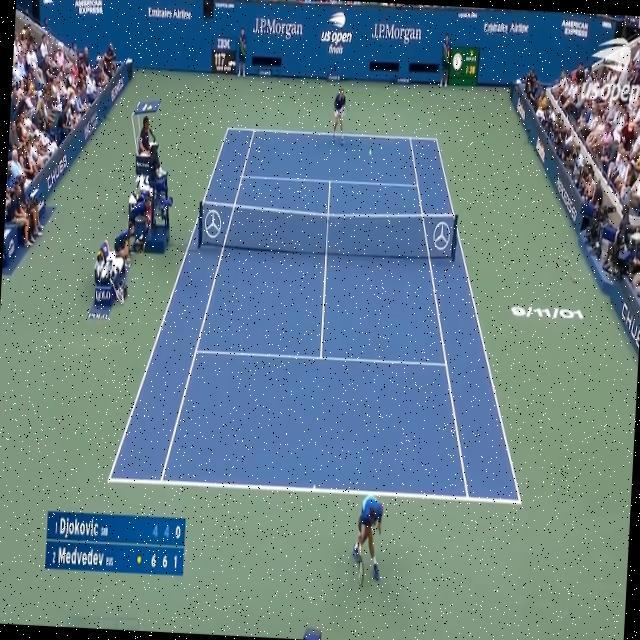Emirates: (485, 21, 510, 37), (148, 6, 173, 21)
